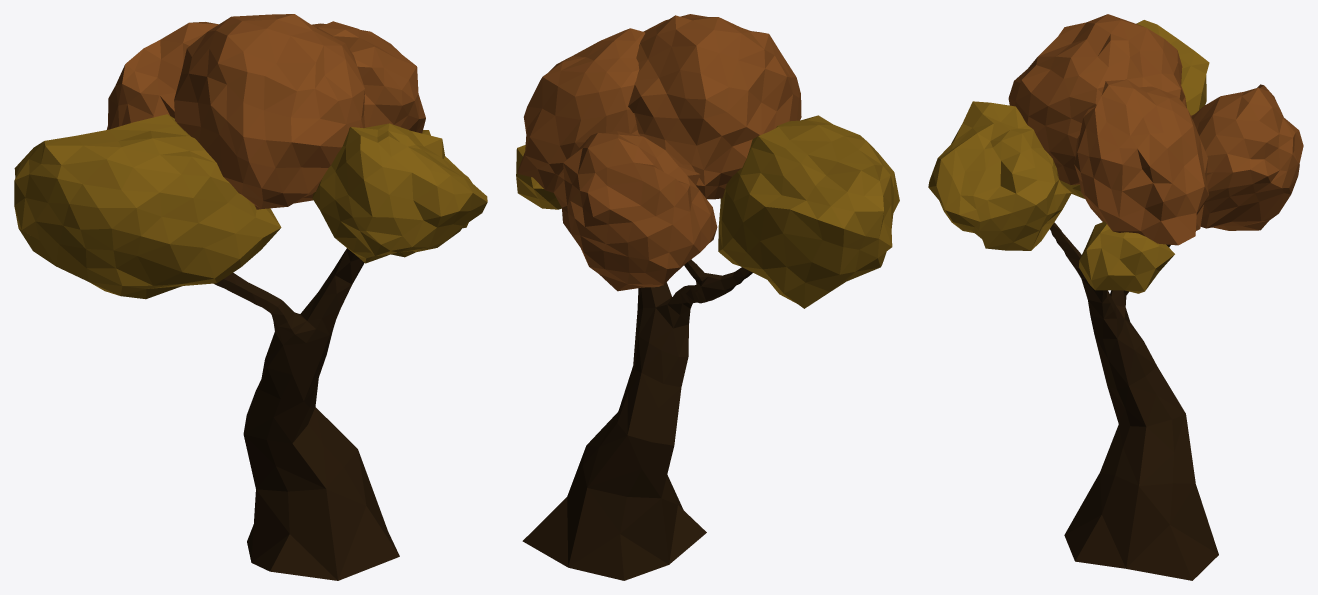
The model's file is common_tree_1_autumn.glb.
The picture shows the model from 3 angles, left to right: view 1: azimuth 30°, elevation 25°; view 2: azimuth 150°, elevation 25°; view 3: azimuth 270°, elevation 25°; orthographic projection. The views are drawn at different scales.
Parts seen in each view (by area): view 1: common_tree_1_leaves.001, common_tree_1_leaves_dark.001, common_tree_1_trunk.001; view 2: common_tree_1_leaves_dark.001, common_tree_1_trunk.001, common_tree_1_leaves.001; view 3: common_tree_1_leaves_dark.001, common_tree_1_trunk.001, common_tree_1_leaves.001.
Part boxes in pixels (x1=…): common_tree_1_leaves.001: x1=14, y1=114, x2=487, y2=299; common_tree_1_leaves_dark.001: x1=107, y1=14, x2=425, y2=209; common_tree_1_trunk.001: x1=214, y1=248, x2=399, y2=580; common_tree_1_leaves_dark.001: x1=517, y1=14, x2=801, y2=291; common_tree_1_trunk.001: x1=522, y1=259, x2=752, y2=580; common_tree_1_leaves.001: x1=516, y1=115, x2=899, y2=308; common_tree_1_leaves_dark.001: x1=1008, y1=14, x2=1303, y2=245; common_tree_1_trunk.001: x1=1050, y1=222, x2=1218, y2=580; common_tree_1_leaves.001: x1=928, y1=20, x2=1209, y2=293.
Bounding box in the file's own units: 4.72 × 6.26 × 4.25.
